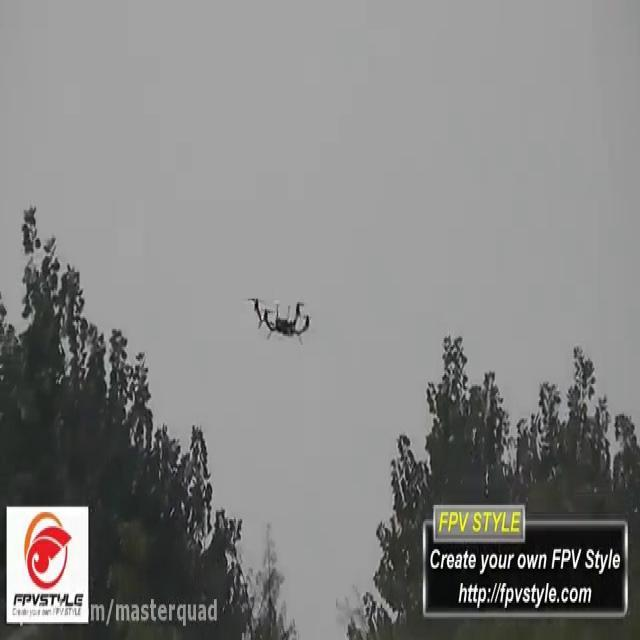drone: (240, 288, 318, 345)
